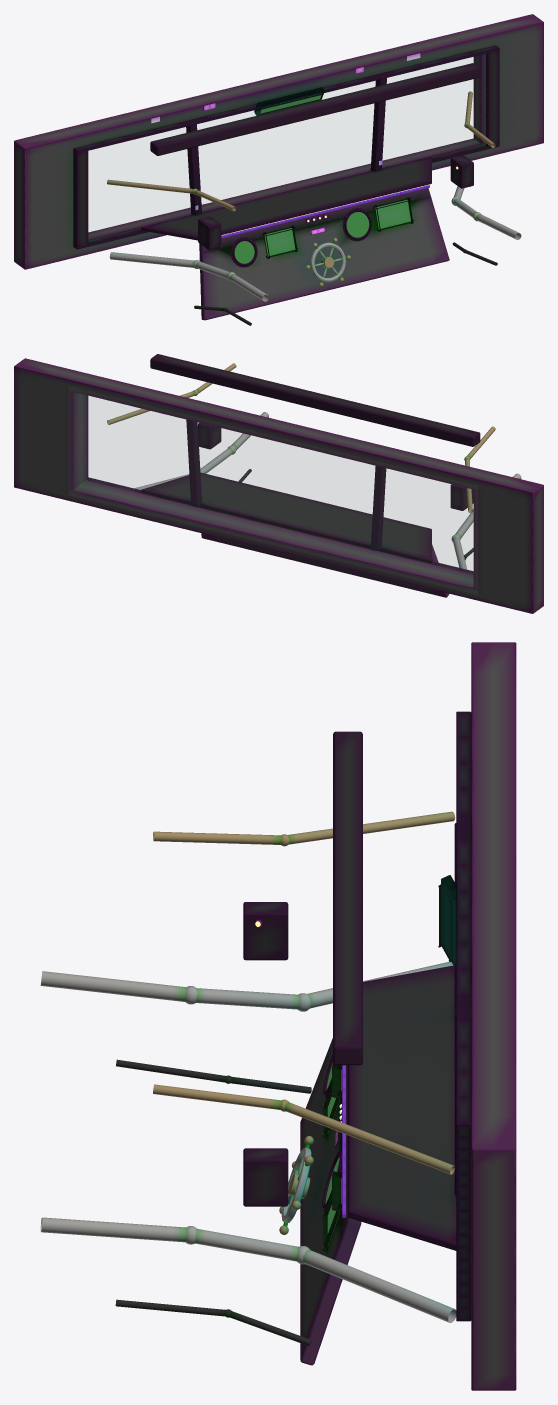
Rendered from bridge.glb.
The picture shows the model from 3 angles, top to bottom: view 1: azimuth 30°, elevation 25°; view 2: azimuth 150°, elevation 25°; view 3: azimuth 270°, elevation 25°; orthographic projection. The views are drawn at different scales.
Visible parts, largest first — view 1: static.paint, static.paint_dark, glass.windows, static.steel, static.brass, grid.anim.helm, static.screen.weapons, static.trim, static.screen.hull, static.screen.radar, static.rubber, static.screen.speed; view 2: glass.windows, static.paint, static.paint_dark, static.steel, static.brass; view 3: static.paint_dark, static.paint, static.steel, static.brass, static.rubber, grid.anim.helm.
Boxes of the visible parts, left/top/right/bottom form: static.paint: left=14, top=14, right=543, bottom=320; static.paint_dark: left=73, top=45, right=499, bottom=267; glass.windows: left=89, top=57, right=472, bottom=231; static.steel: left=109, top=67, right=521, bottom=301; static.brass: left=107, top=91, right=495, bottom=211; grid.anim.helm: left=305, top=238, right=350, bottom=286; static.screen.weapons: left=375, top=199, right=410, bottom=229; static.trim: left=221, top=185, right=429, bottom=238; static.screen.hull: left=264, top=228, right=295, bottom=256; static.screen.radar: left=346, top=212, right=369, bottom=237; static.rubber: left=194, top=242, right=497, bottom=325; static.screen.speed: left=234, top=241, right=254, bottom=263; glass.windows: left=69, top=387, right=477, bottom=593; static.paint: left=14, top=358, right=543, bottom=613; static.paint_dark: left=87, top=354, right=480, bottom=574; static.steel: left=134, top=412, right=521, bottom=569; static.brass: left=107, top=363, right=495, bottom=513; static.paint_dark: left=243, top=711, right=471, bottom=1321; static.paint: left=300, top=642, right=516, bottom=1390; static.steel: left=40, top=818, right=470, bottom=1322; static.brass: left=153, top=811, right=455, bottom=1174; static.rubber: left=115, top=1059, right=311, bottom=1346; grid.anim.helm: left=279, top=1136, right=313, bottom=1234.
Bounding box in the file's own units: 3.21 × 1.06 × 1.28.
